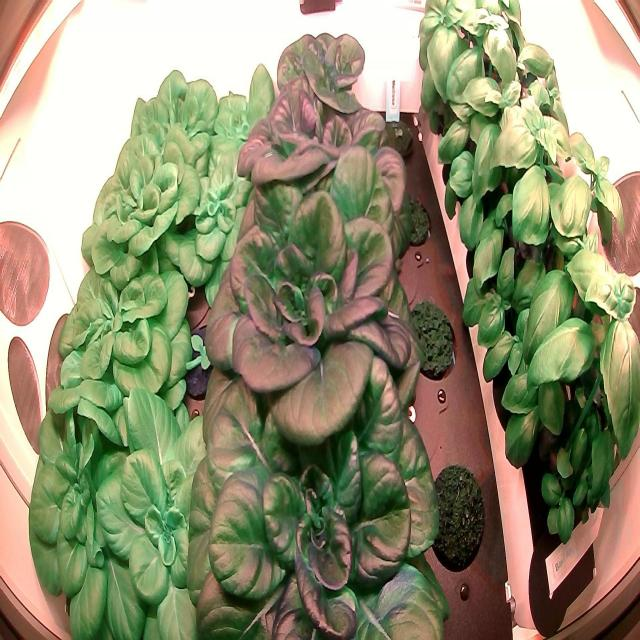Ready: (175, 352, 458, 640), (198, 138, 436, 426), (26, 377, 182, 640), (45, 229, 193, 451), (77, 115, 216, 310), (232, 74, 400, 231), (261, 20, 375, 152), (118, 66, 219, 191)
germination: (373, 104, 422, 168)
pod: (419, 456, 489, 578), (403, 296, 460, 388), (391, 188, 434, 252)
young: (85, 366, 263, 639), (166, 133, 274, 304), (203, 63, 287, 188), (171, 313, 229, 407)
